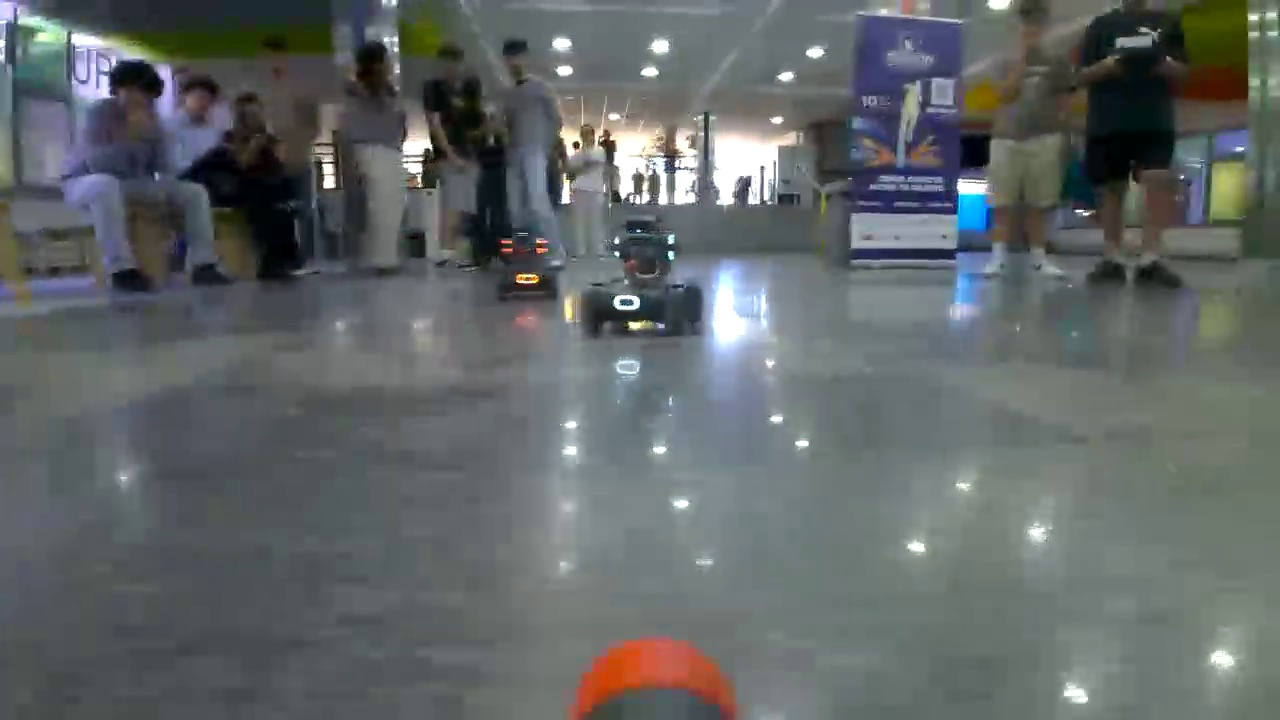robot: (580, 218, 700, 338), (498, 228, 555, 298)
